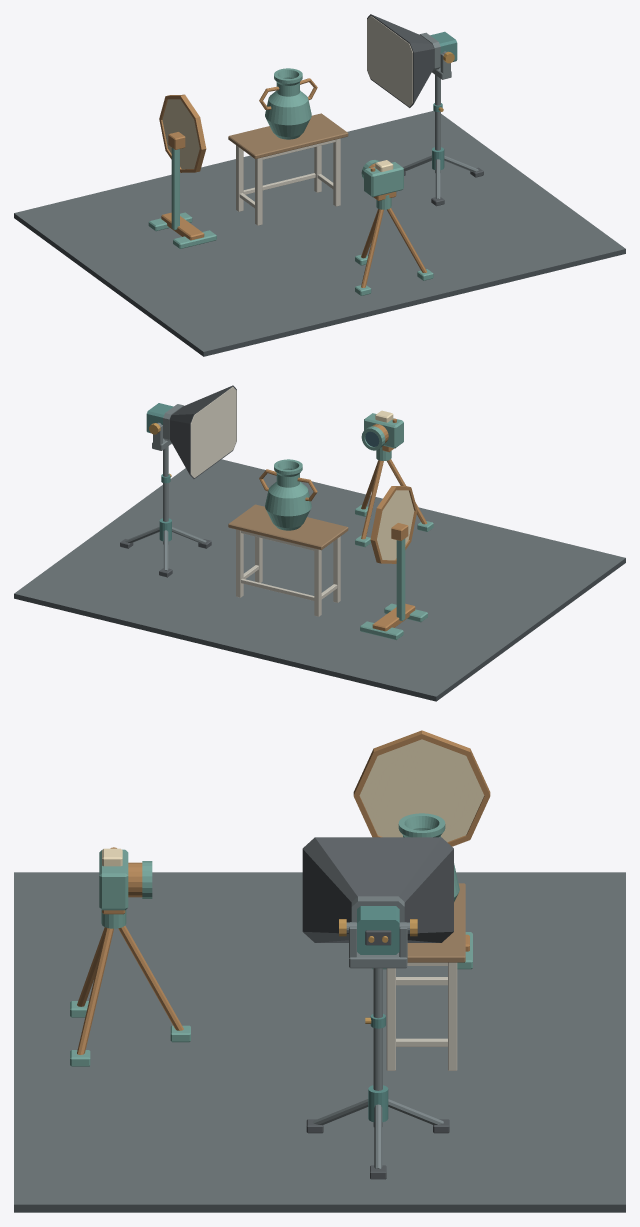
3 renders of one model, top to bottom at view 1: azimuth 30°, elevation 25°; view 2: azimuth 150°, elevation 25°; view 3: azimuth 270°, elevation 25°, orthographic. The views are drawn at different scales.
Parts seen in each view (by area): view 1: SCENE_ONLY__StillLifeFloor, reflector__photography-reflector-01, camera__photography-tripod-camera-01, softbox__Softbox_FrontDiffuser, subject__ceramics-amphora-01, table__Complete work surface, softbox__Softbox_DeepHood, table__Worktable leg, table__Worktable leg.002, table__Worktable leg.001; view 2: SCENE_ONLY__StillLifeFloor, reflector__photography-reflector-01, softbox__Softbox_FrontDiffuser, camera__photography-tripod-camera-01, subject__ceramics-amphora-01, table__Complete work surface, softbox__Softbox_DeepHood, table__Worktable leg.001, table__Worktable leg.003, table__Worktable leg; view 3: SCENE_ONLY__StillLifeFloor, softbox__Softbox_DeepHood, reflector__photography-reflector-01, camera__photography-tripod-camera-01, table__Complete work surface, softbox__LampHead_Housing, subject__ceramics-amphora-01, softbox__Stand_Mast, table__Worktable leg.003, table__Worktable leg.002, softbox__Yoke_BottomBridge, softbox__Softbox_RearCollar.
Boxes of the visible parts, x1,y1,x2,y2 form: SCENE_ONLY__StillLifeFloor: (14,111,625,356); reflector__photography-reflector-01: (148,94,216,248); camera__photography-tripod-camera-01: (355,160,433,295); softbox__Softbox_FrontDiffuser: (367,15,412,106); subject__ceramics-amphora-01: (259,68,317,139); table__Complete work surface: (228,113,348,158); softbox__Softbox_DeepHood: (367,14,434,107); table__Worktable leg: (255,157,262,225); table__Worktable leg.002: (333,138,340,206); table__Worktable leg.001: (236,145,243,211); SCENE_ONLY__StillLifeFloor: (14,459,625,701); reflector__photography-reflector-01: (360,486,427,639); softbox__Softbox_FrontDiffuser: (190,387,236,477); camera__photography-tripod-camera-01: (355,410,433,547); subject__ceramics-amphora-01: (259,459,317,530); table__Complete work surface: (228,504,348,550); softbox__Softbox_DeepHood: (169,385,236,478); table__Worktable leg.001: (314,548,321,616); table__Worktable leg.003: (236,529,243,597); table__Worktable leg: (333,536,340,602); SCENE_ONLY__StillLifeFloor: (14,872,625,1212); softbox__Softbox_DeepHood: (302,837,453,942); reflector__photography-reflector-01: (353,730,490,969); camera__photography-tripod-camera-01: (70,847,190,1066); table__Complete work surface: (407,883,465,962); softbox__LampHead_Housing: (357,906,399,954); subject__ceramics-amphora-01: (398,813,459,901); softbox__Stand_Mast: (373,968,382,1126); table__Worktable leg.003: (448,962,457,1070); table__Worktable leg.002: (386,968,395,1070); softbox__Yoke_BottomBridge: (349,952,407,968); softbox__Softbox_RearCollar: (351,896,404,922).
Size of the model in its own units: 5.4 by 2.11 by 4.2.
